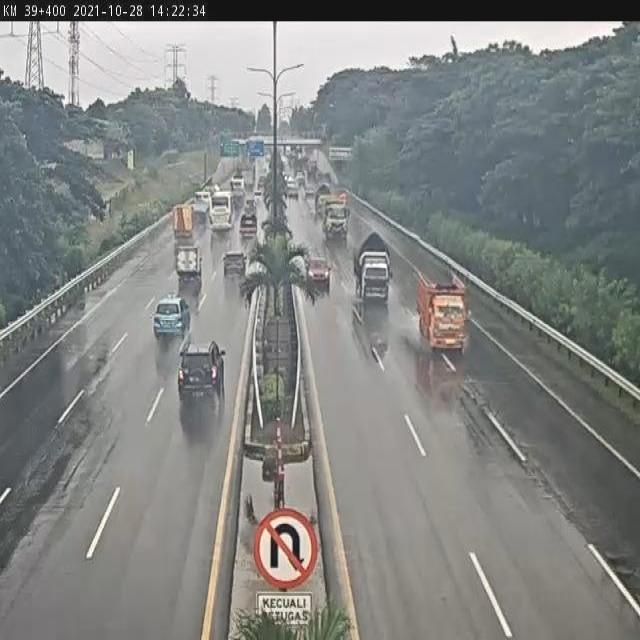Bus: (209, 190, 234, 232)
Car: (174, 339, 232, 406), (147, 294, 194, 343), (306, 256, 332, 296), (222, 250, 246, 291), (194, 189, 212, 207), (253, 188, 263, 206), (305, 186, 315, 199), (297, 174, 305, 189)
Truck: (416, 272, 470, 355), (353, 234, 392, 305), (174, 243, 204, 299), (322, 202, 350, 241), (172, 204, 195, 243), (239, 201, 257, 238), (315, 184, 333, 218)
